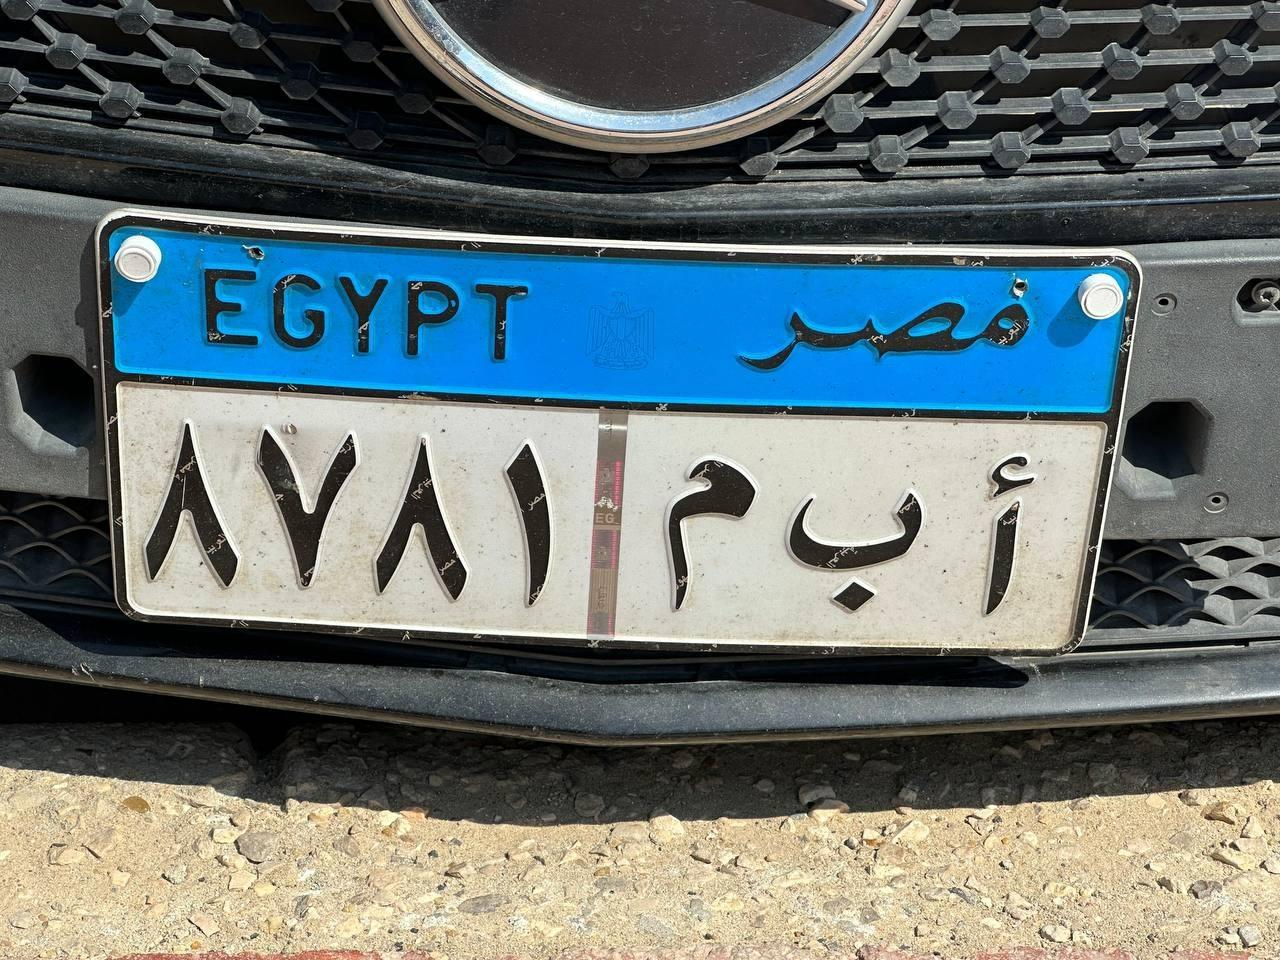1: (491, 439, 566, 614)
7: (245, 406, 364, 599)
8: (136, 420, 242, 606), (370, 427, 473, 613)
License Plate: (94, 180, 1150, 658)
Meem: (774, 473, 922, 646), (658, 436, 754, 634)
alef: (982, 447, 1030, 633)
